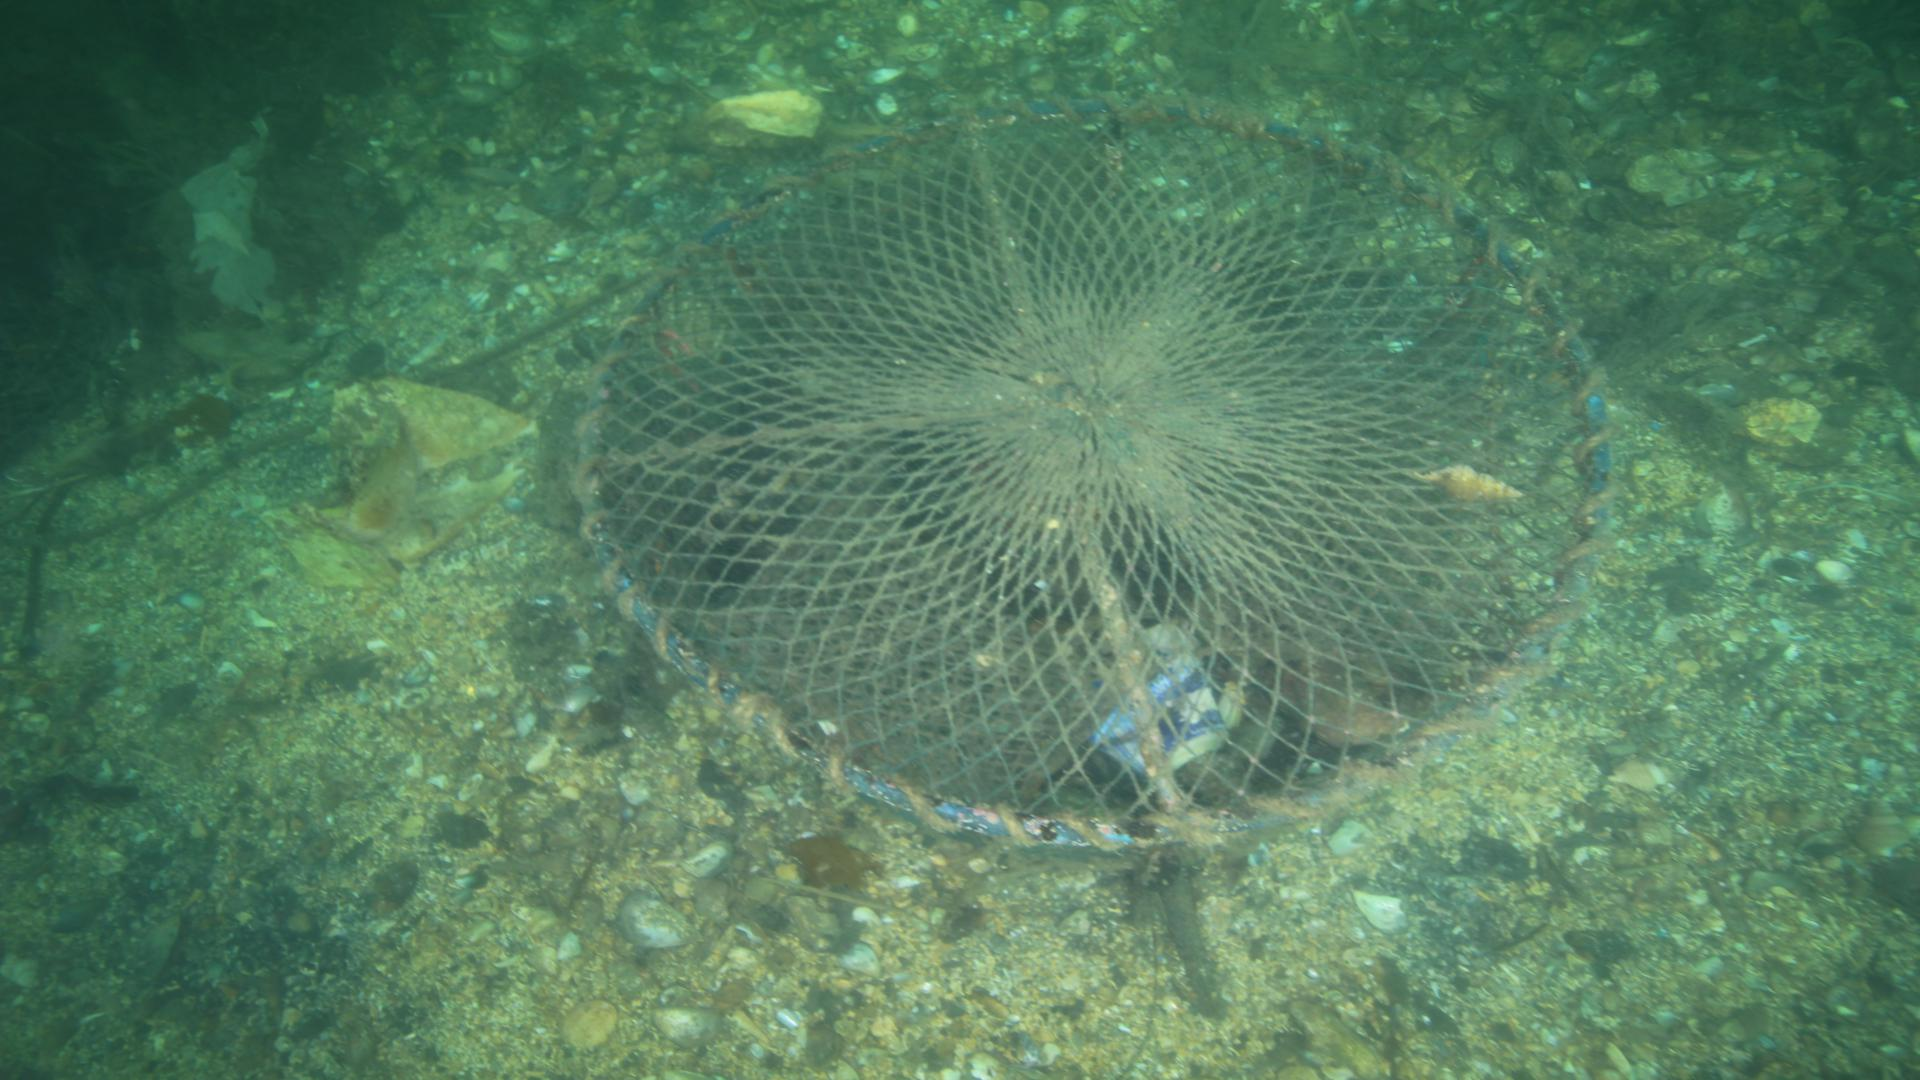circular fish trap: (570, 102, 1617, 851)
